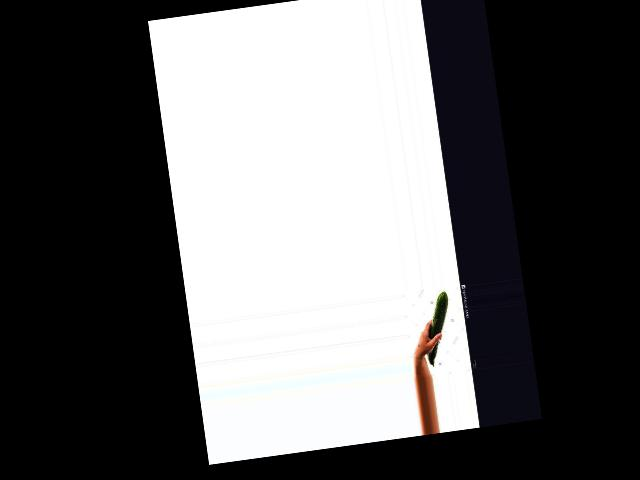cucumber: (419, 291, 457, 367)
